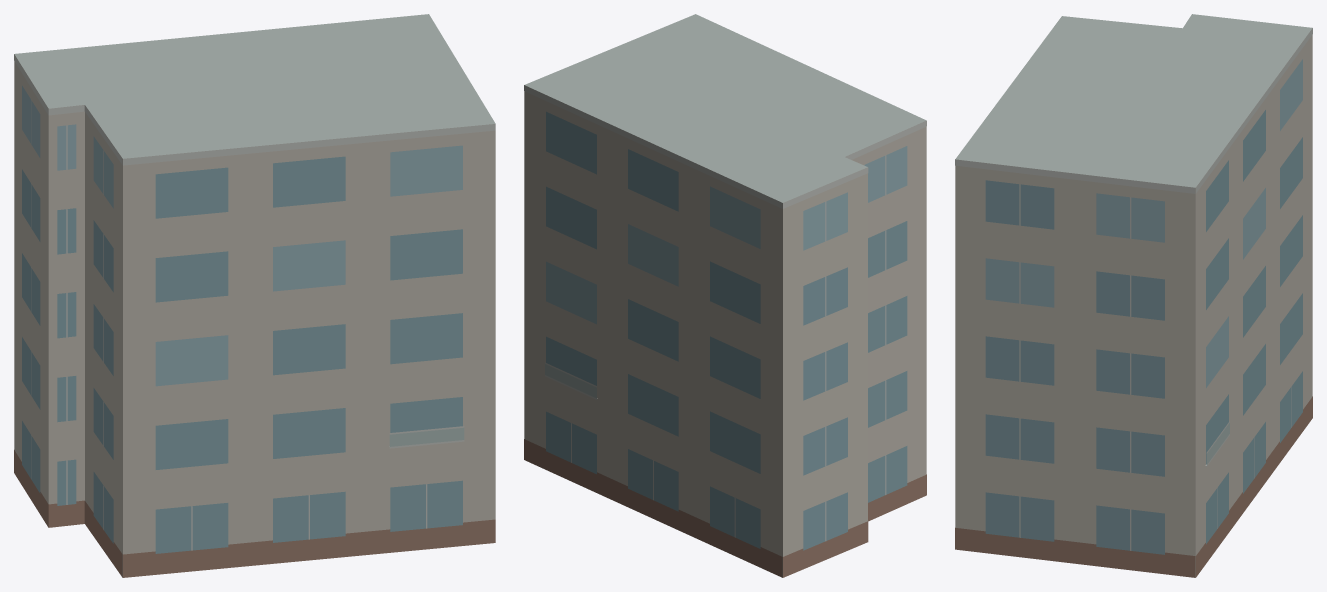
File: survey-upis-32948395.glb
The picture shows the model from 3 angles, left to right: view 1: azimuth 30°, elevation 25°; view 2: azimuth 150°, elevation 25°; view 3: azimuth 270°, elevation 25°; orthographic projection. The views are drawn at different scales.
Visible parts, largest first — view 1: survey-upis-32948395.tmp; view 2: survey-upis-32948395.tmp; view 3: survey-upis-32948395.tmp.
Part boxes in pixels (<box>): survey-upis-32948395.tmp: <box>14,14,495,577</box>; survey-upis-32948395.tmp: <box>524,14,926,577</box>; survey-upis-32948395.tmp: <box>955,14,1312,577</box>.
Bounding box in the file's own units: 14.48 × 15.15 × 12.6.
